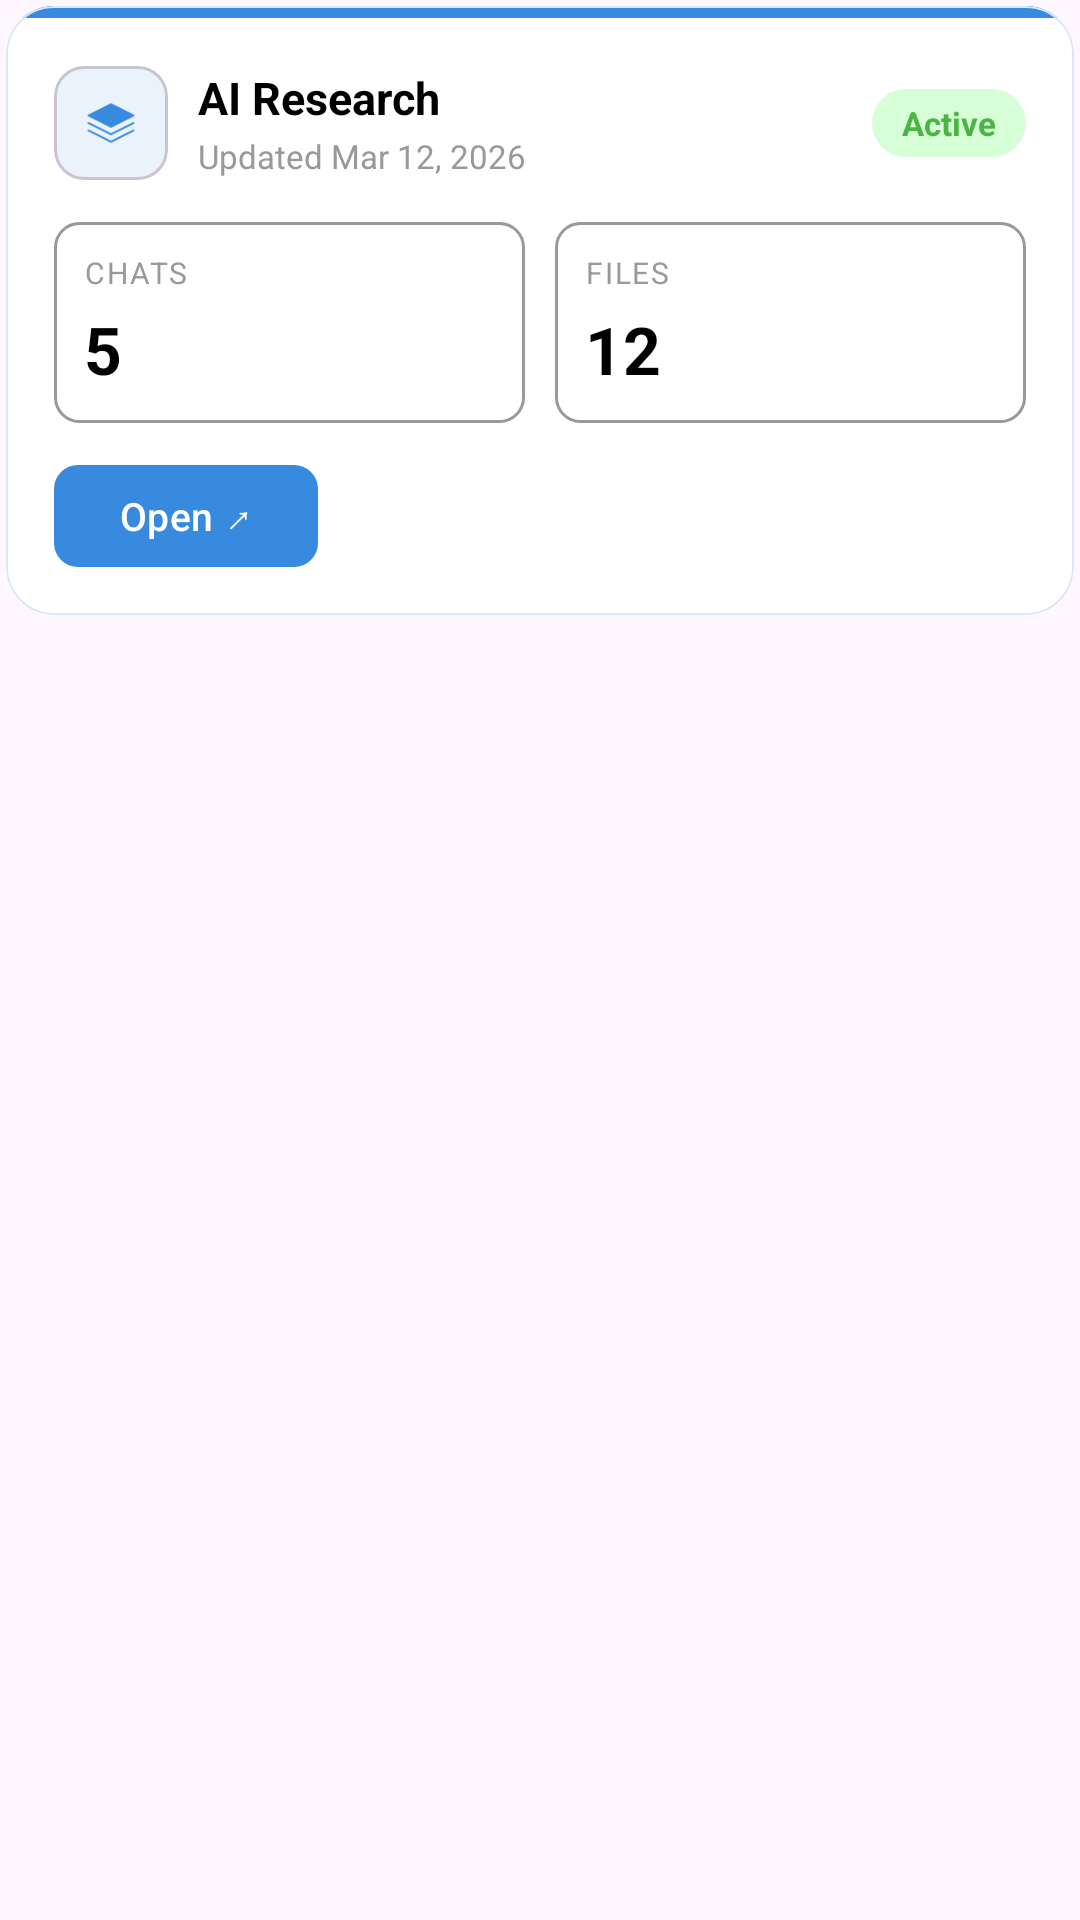

Where to tap for icons on this 1080w x 1920h app screen, as point (x, y):
collection: point (111, 123)
